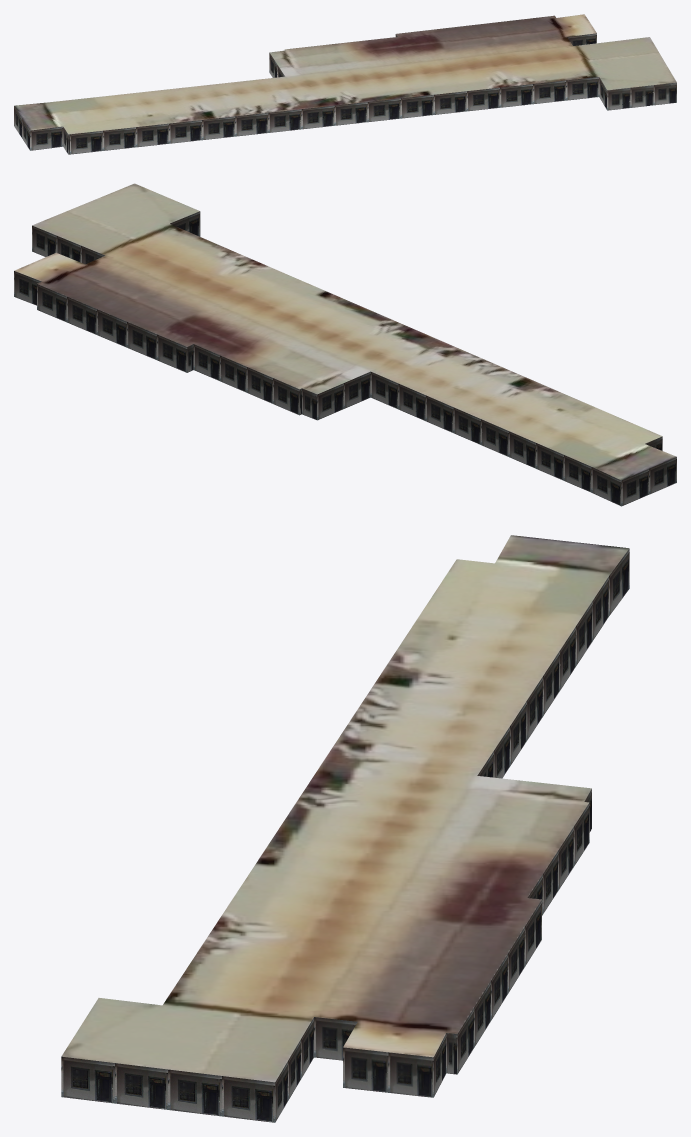
File: T_1T3CW4NWSC.dae
The picture shows the model from 3 angles, top to bottom: view 1: azimuth 30°, elevation 25°; view 2: azimuth 150°, elevation 25°; view 3: azimuth 270°, elevation 25°; orthographic projection. The views are drawn at different scales.
Visible parts, largest first — view 1: SketchUp (×6); view 2: SketchUp (×9); view 3: SketchUp (×9).
Part boxes in pixels (bbox=[...]): SketchUp (×6): bbox=[14, 14, 676, 154]; SketchUp (×9): bbox=[14, 183, 676, 506]; SketchUp (×9): bbox=[61, 535, 629, 1122].
Bounding box in the file's own units: 111 × 48.74 × 3.83.
2 materials, 2 textured.
